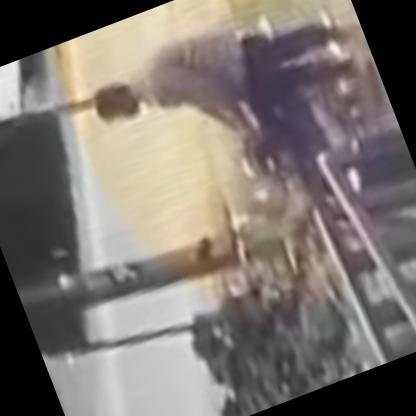Human Body: (77, 0, 373, 199)
